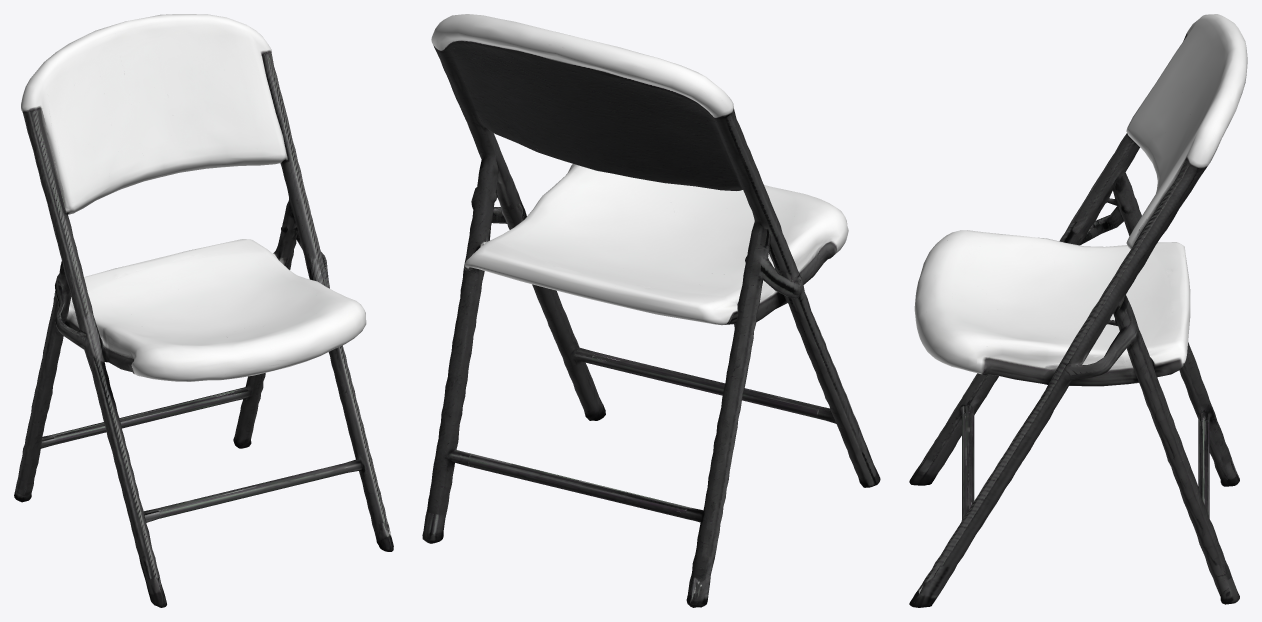
The model's file is Lifetime_Classic_Fold_0404021324_texture.glb.
The picture shows the model from 3 angles, left to right: view 1: azimuth 30°, elevation 25°; view 2: azimuth 150°, elevation 25°; view 3: azimuth 270°, elevation 25°; orthographic projection. The views are drawn at different scales.
Parts seen in each view (by area): view 1: Mesh_0.001; view 2: Mesh_0.001; view 3: Mesh_0.001.
Part boxes in pixels (left/top/right/bottom): Mesh_0.001: left=14, top=14, right=393, bottom=607; Mesh_0.001: left=422, top=14, right=880, bottom=607; Mesh_0.001: left=909, top=14, right=1247, bottom=607.
Bounding box in the file's own units: 0.5024 × 0.8128 × 0.5024.
1 material, 1 textured.
